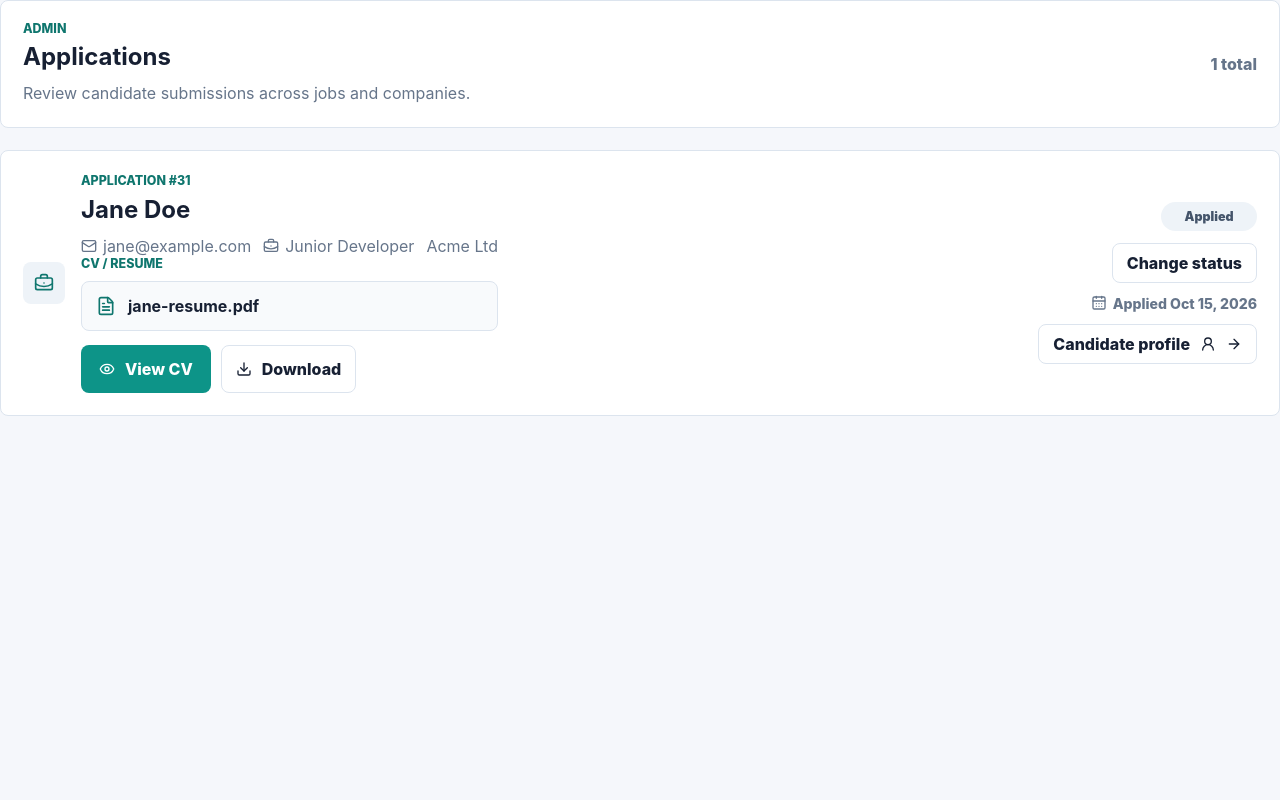
Test: AdminApplicationsPage › shows an error and keeps the status dialog open if saving fails
Expected: the link "Jane Doe" is shown, [81,195,190,224]
Click the button "Change status". click: (1184, 263)
box: [1112,243,1257,283]
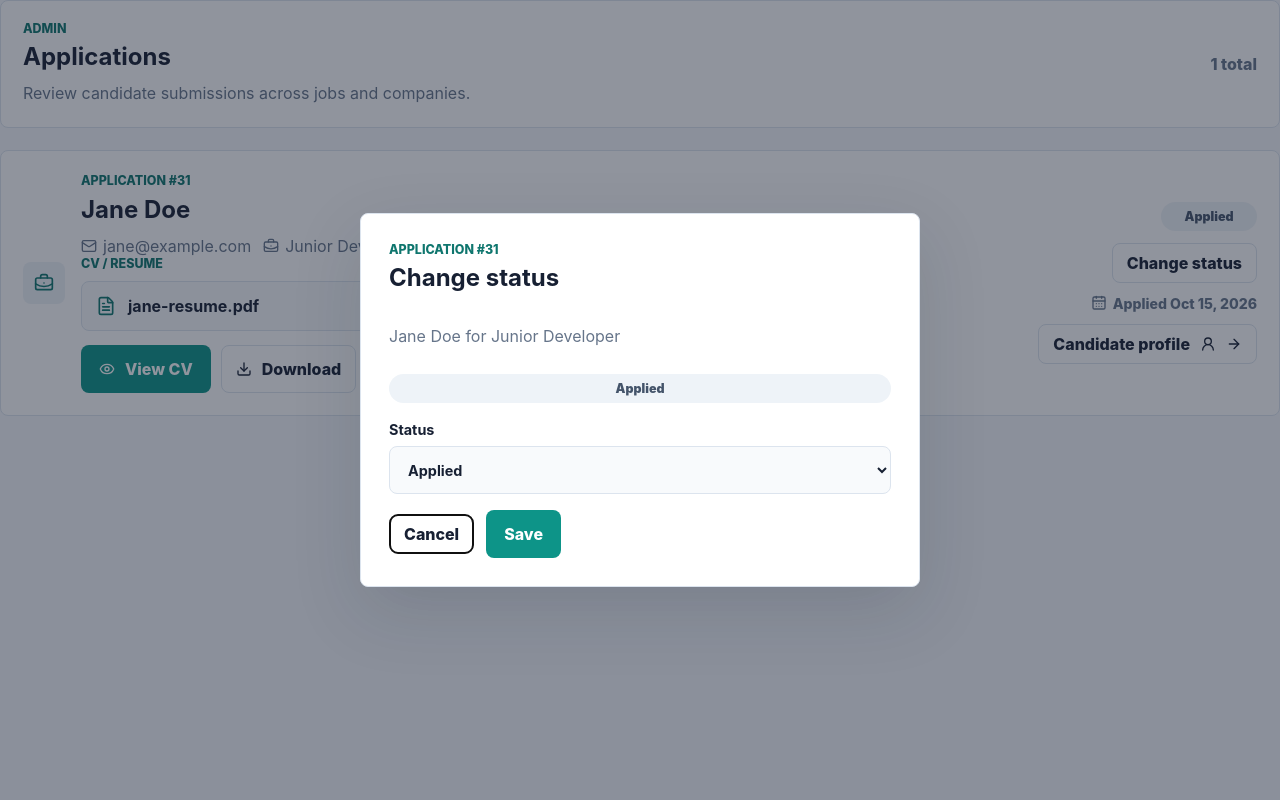
Select "Reviewing" in the dropdown labelled "Status". click: (640, 470)
box: [389,446,891,494]
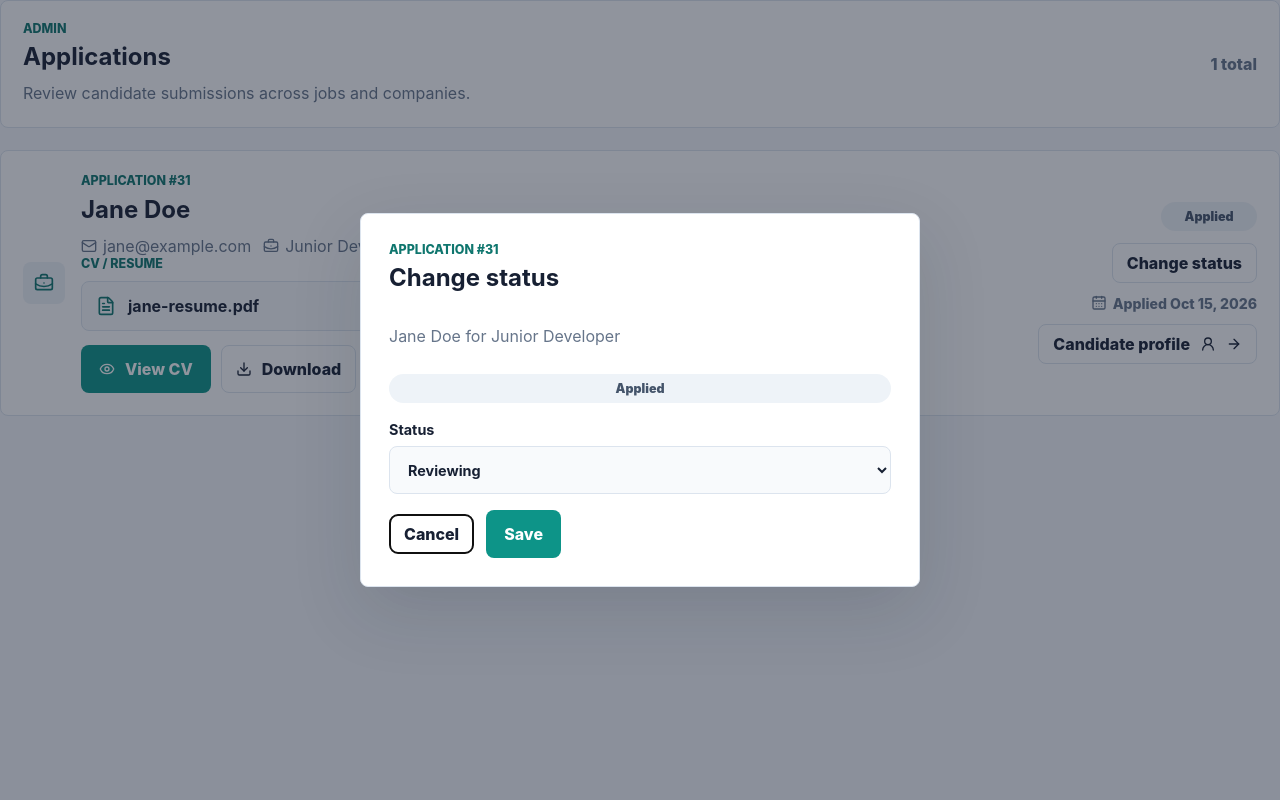
Click the button "Save". click: (524, 534)
box: [486,510,561,558]
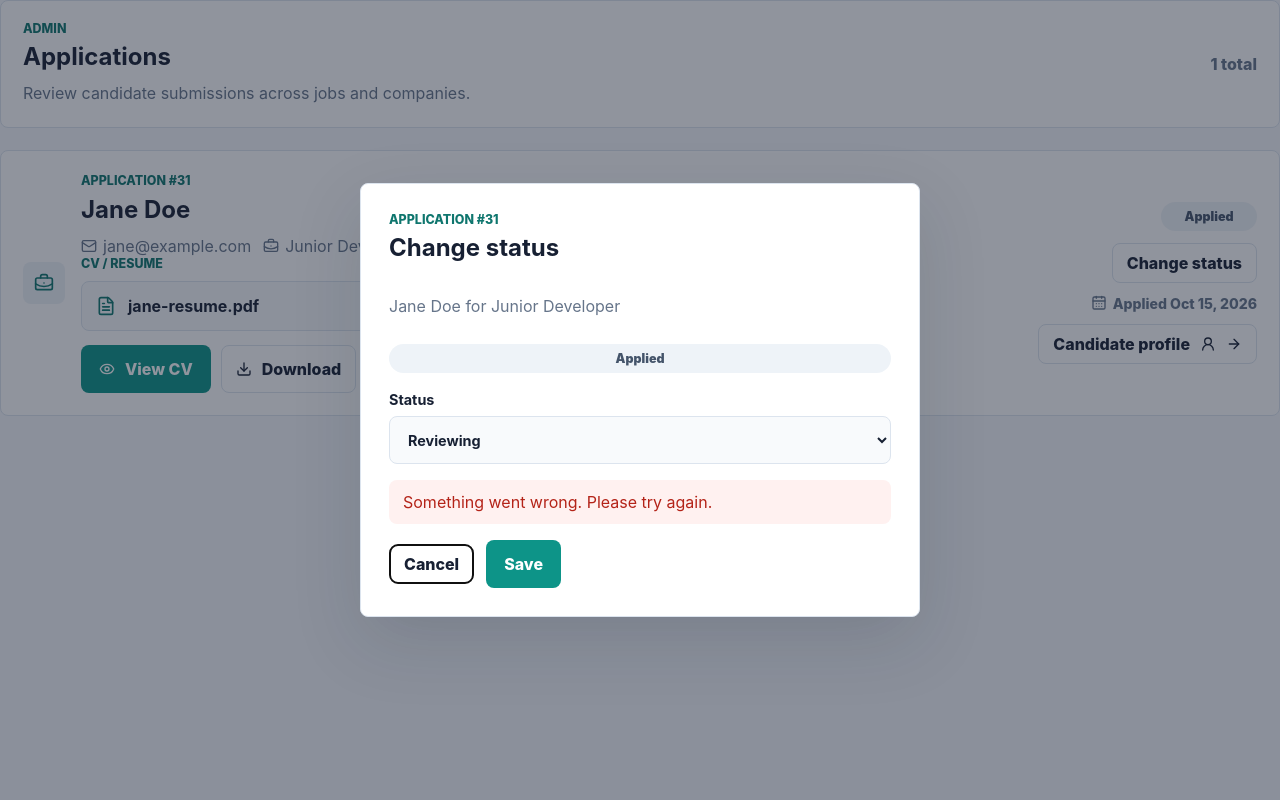
Expected: the dialog is shown, [360,183,920,617]
Expected: the text "Something went wrong. Please try again." is shown, [389,480,891,524]
